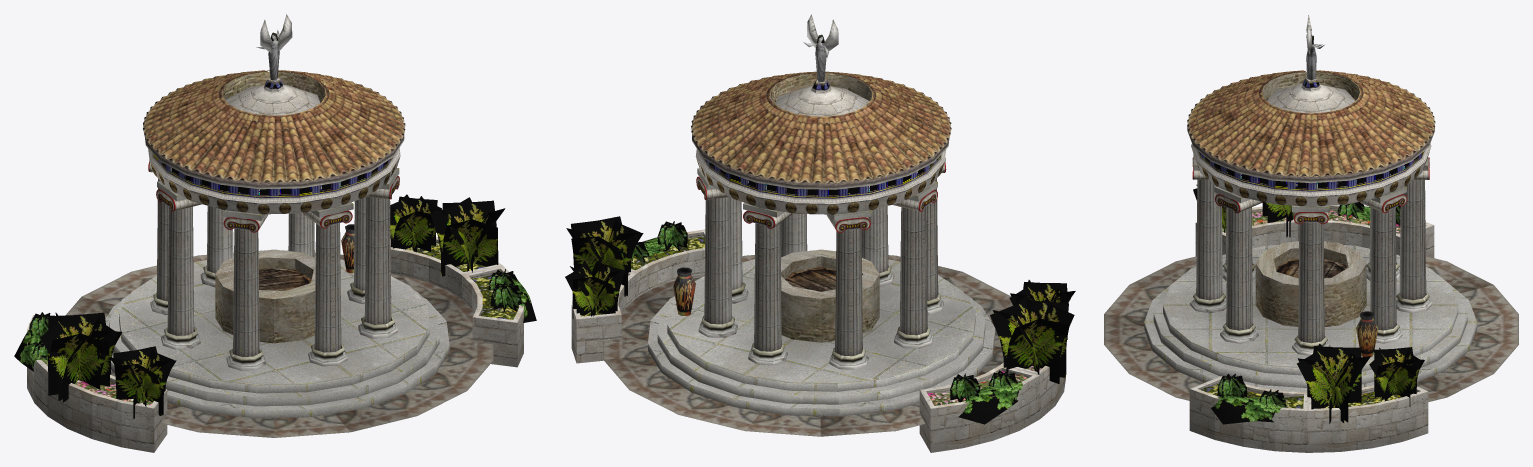
The model's file is s_hellenes_shrine_01.glb.
3 renders of one model, left to right at view 1: azimuth 30°, elevation 25°; view 2: azimuth 150°, elevation 25°; view 3: azimuth 270°, elevation 25°, orthographic. The views are drawn at different scales.
Visible parts, largest first — view 1: s_hellenes_shrine_01_part0, s_hellenes_shrine_01_part5, s_hellenes_shrine_01_part4, s_hellenes_shrine_01_part2, s_hellenes_shrine_01_part3, s_hellenes_shrine_01_part1; view 2: s_hellenes_shrine_01_part0, s_hellenes_shrine_01_part5, s_hellenes_shrine_01_part4, s_hellenes_shrine_01_part2, s_hellenes_shrine_01_part3, s_hellenes_shrine_01_part1; view 3: s_hellenes_shrine_01_part0, s_hellenes_shrine_01_part5, s_hellenes_shrine_01_part4, s_hellenes_shrine_01_part3, s_hellenes_shrine_01_part2, s_hellenes_shrine_01_part1.
Part boxes in pixels (<box>): s_hellenes_shrine_01_part0: <box>27,70,523,452</box>; s_hellenes_shrine_01_part5: <box>105,160,449,418</box>; s_hellenes_shrine_01_part4: <box>156,14,391,356</box>; s_hellenes_shrine_01_part2: <box>14,194,536,418</box>; s_hellenes_shrine_01_part3: <box>66,162,493,437</box>; s_hellenes_shrine_01_part1: <box>144,72,404,189</box>; s_hellenes_shrine_01_part0: <box>571,71,1065,452</box>; s_hellenes_shrine_01_part5: <box>648,158,995,416</box>; s_hellenes_shrine_01_part4: <box>673,14,938,356</box>; s_hellenes_shrine_01_part2: <box>565,216,1075,424</box>; s_hellenes_shrine_01_part3: <box>603,163,1012,436</box>; s_hellenes_shrine_01_part1: <box>692,74,949,189</box>; s_hellenes_shrine_01_part0: <box>1187,70,1435,452</box>; s_hellenes_shrine_01_part5: <box>1144,154,1477,392</box>; s_hellenes_shrine_01_part4: <box>1196,15,1426,356</box>; s_hellenes_shrine_01_part3: <box>1104,157,1518,401</box>; s_hellenes_shrine_01_part2: <box>1193,184,1424,424</box>; s_hellenes_shrine_01_part1: <box>1187,72,1434,183</box>.
Size of the model in its own units: 5.35 by 3.79 by 4.19.
Materials: 5 (5 with a texture image).
